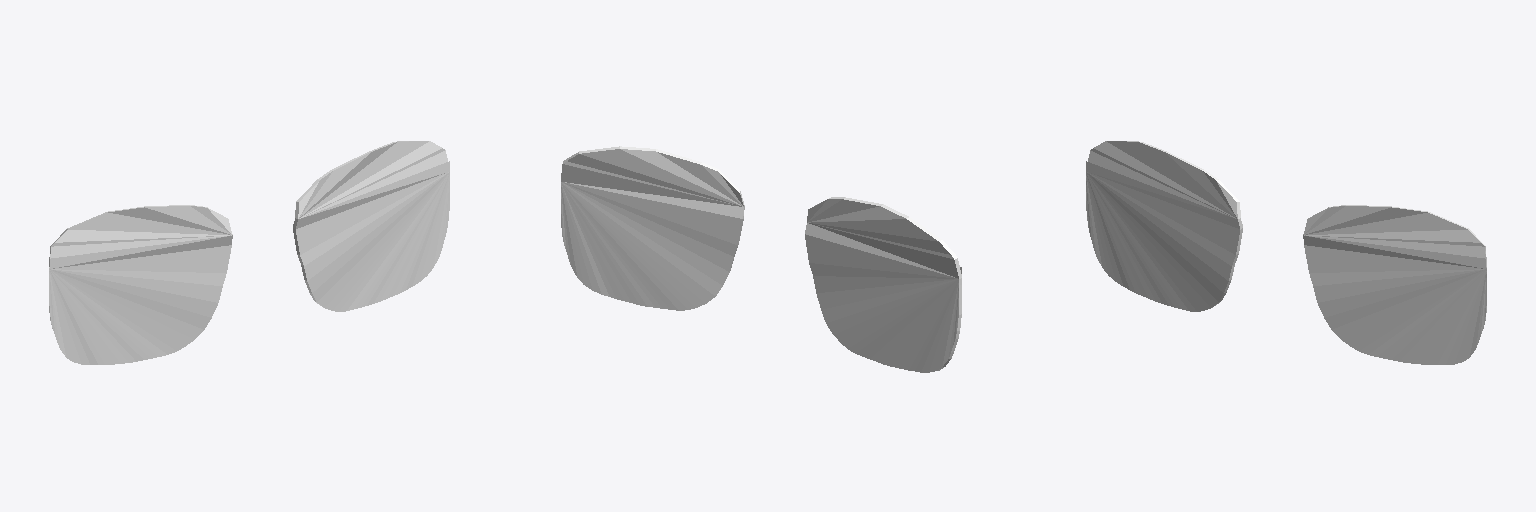
File: lenses.obj
3 views of the same model, side by side, from view 1: azimuth 30°, elevation 25°; view 2: azimuth 150°, elevation 25°; view 3: azimuth 330°, elevation 25° (orthographic).
Visible parts, largest first — view 1: Cube.001; view 2: Cube.001; view 3: Cube.001.
Part boxes in pixels (x1,y1,x2,y2): Cube.001: (49,141,449,364); Cube.001: (561,146,961,372); Cube.001: (1086,141,1486,364).
Bounding box in the file's own units: 0.1273 × 0.0472 × 0.0104.